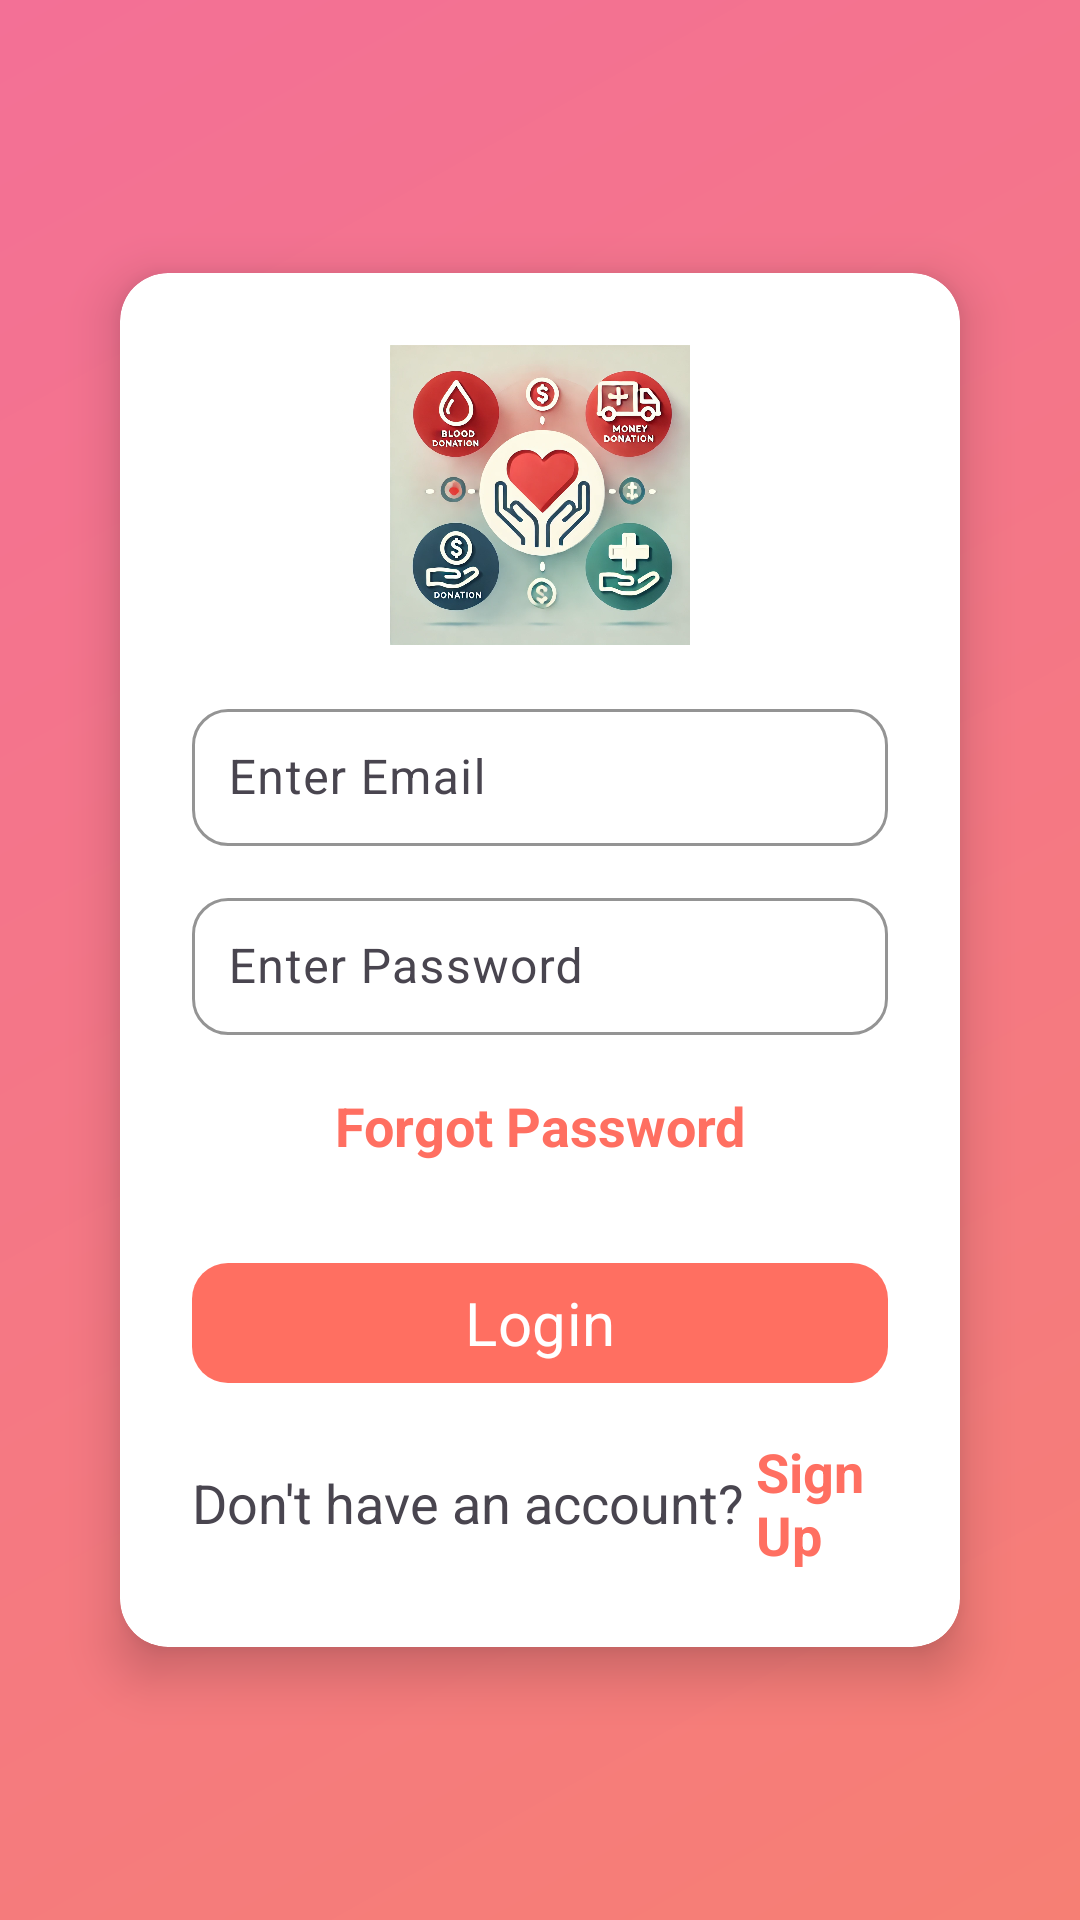

Icons on this 1080*1920 Android screen, each with the point to tap as (x=x, y=y):
appicon: (x=540, y=495)
